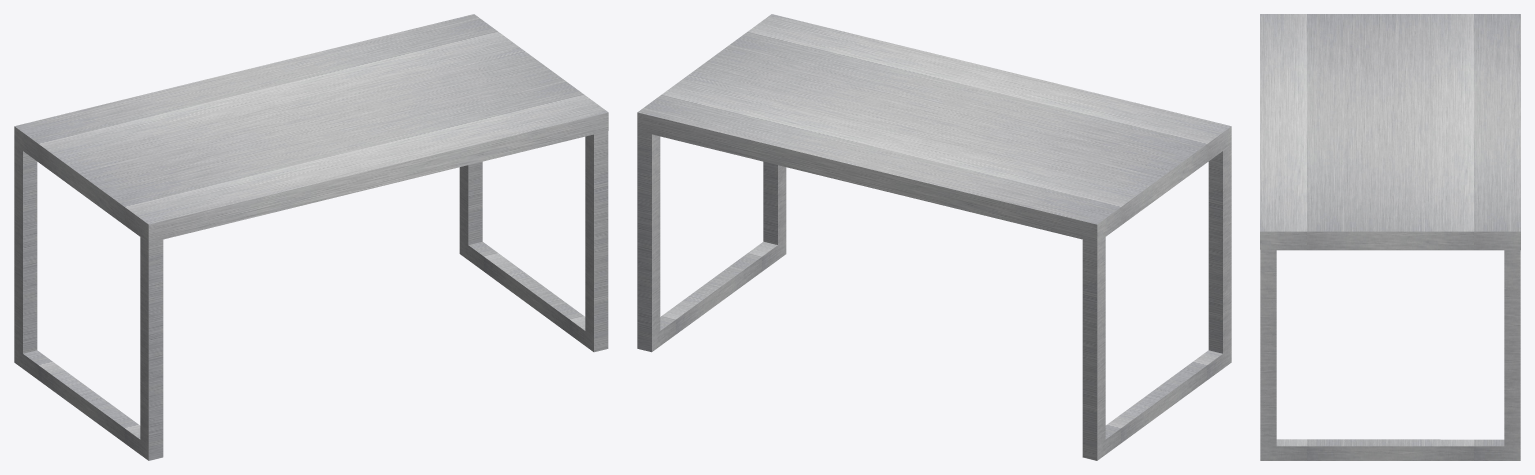
Rendered from mesa.obj.
The picture shows the model from 3 angles, left to right: view 1: azimuth 30°, elevation 25°; view 2: azimuth 150°, elevation 25°; view 3: azimuth 270°, elevation 25°; orthographic projection. The views are drawn at different scales.
Parts seen in each view (by area): view 1: Table_Cube_001; view 2: Table_Cube_001; view 3: Table_Cube_001.
Part boxes in pixels (x1=…): Table_Cube_001: x1=14, y1=14, x2=608, y2=460; Table_Cube_001: x1=637, y1=14, x2=1231, y2=460; Table_Cube_001: x1=1260, y1=14, x2=1520, y2=460.
Bounding box in the file's own units: 2.73 × 1.34 × 1.38.
1 material, 1 textured.
